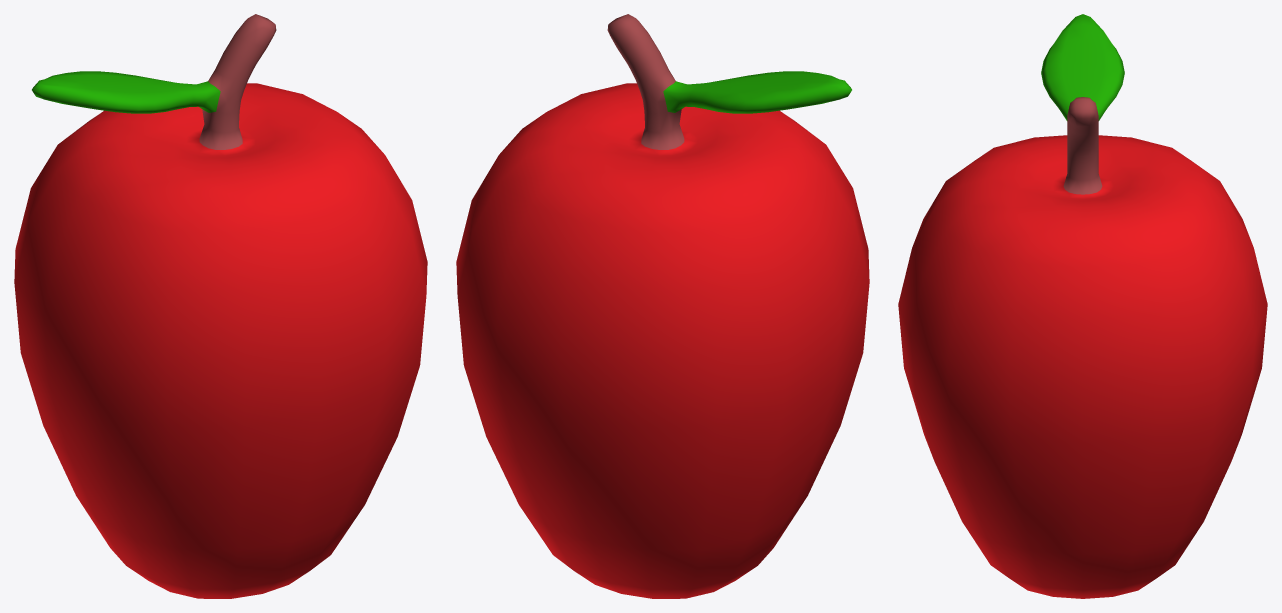
Rendered from PickupAppleRed.dae.
The picture shows the model from 3 angles, left to right: view 1: azimuth 30°, elevation 25°; view 2: azimuth 150°, elevation 25°; view 3: azimuth 270°, elevation 25°; orthographic projection. The views are drawn at different scales.
Visible parts, largest first — view 1: AppleRedPickup; view 2: AppleRedPickup; view 3: AppleRedPickup.
Part boxes in pixels (x1=…): AppleRedPickup: x1=14, y1=14, x2=427, y2=598; AppleRedPickup: x1=456, y1=14, x2=869, y2=598; AppleRedPickup: x1=898, y1=14, x2=1267, y2=598.
Size of the model in its own units: 0.2756 by 0.2665 by 0.3874.
